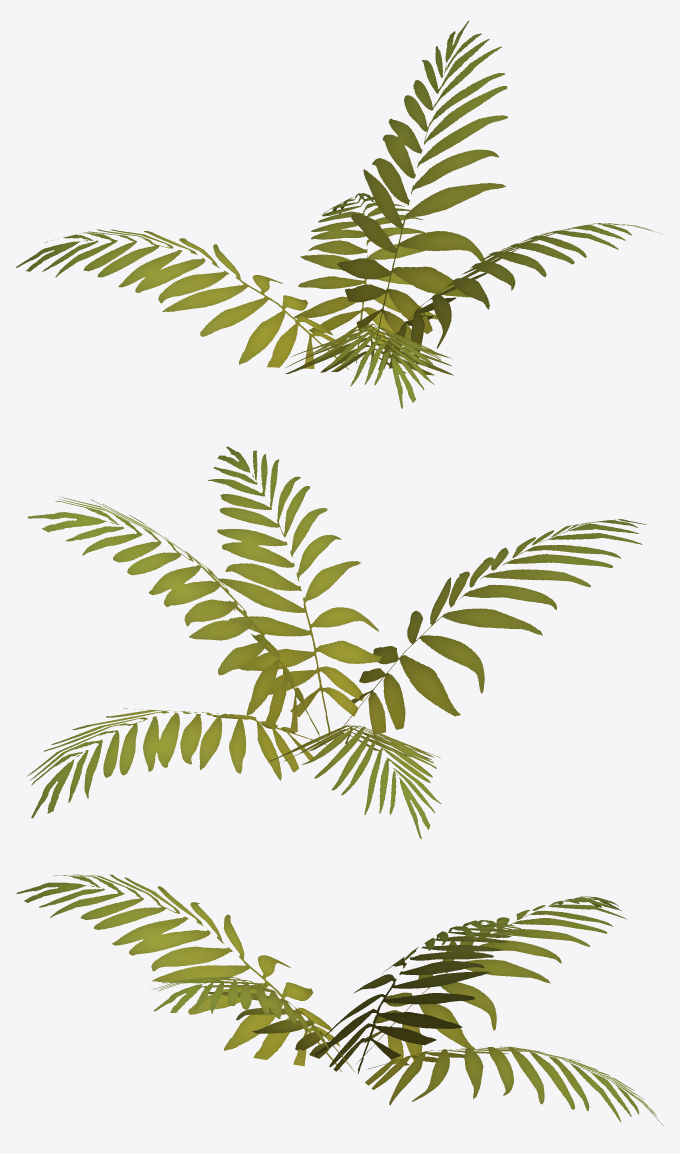
File: fern 02_lod1.obj
3 views of the same model, one above another, from view 1: azimuth 30°, elevation 25°; view 2: azimuth 150°, elevation 25°; view 3: azimuth 270°, elevation 25° (orthographic). The views are drawn at different scales.
Visible parts, largest first — view 1: tree; view 2: tree; view 3: tree.
Boxes of the visible parts, x1=… form: tree: x1=16, y1=20, x2=661, y2=408; tree: x1=24, y1=446, x2=646, y2=838; tree: x1=16, y1=874, x2=664, y2=1126.
Bounding box in the file's own units: 135 × 71.25 × 176.
